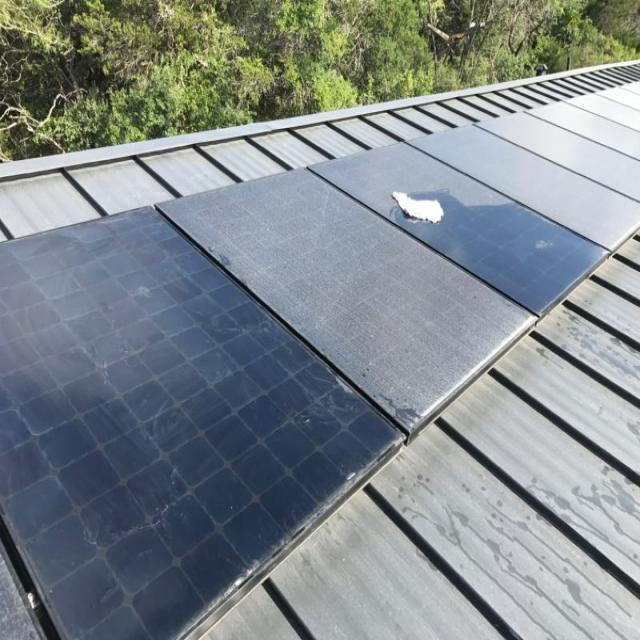dust-solar-panel: (157, 162, 534, 432), (404, 78, 640, 248), (305, 140, 514, 226)
